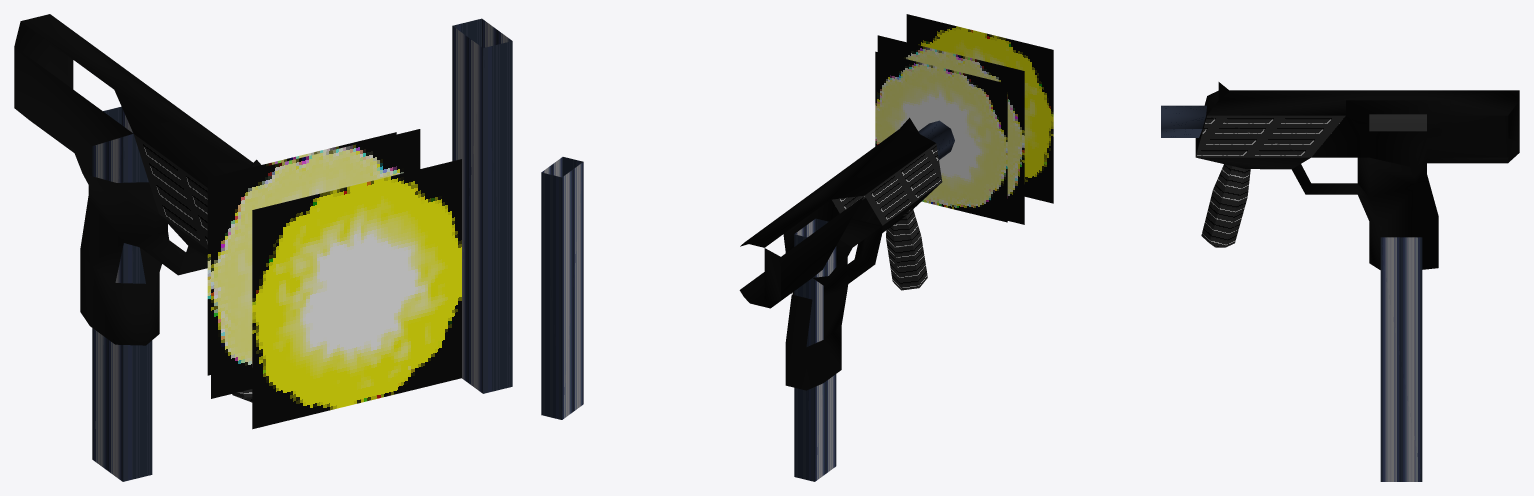
The model's file is Gun000A.obj.
The picture shows the model from 3 angles, left to right: view 1: azimuth 30°, elevation 25°; view 2: azimuth 150°, elevation 25°; view 3: azimuth 270°, elevation 25°; orthographic projection. The views are drawn at different scales.
Visible parts, largest first — view 1: Room02_primary, Room03_primary, Room0D_primary, Room0B_primary; view 2: Room02_primary, Room03_primary, Room0D_primary, Room0B_primary; view 3: Room03_primary, Room0D_primary, Room07_primary.
Part boxes in pixels (bbox=[...]): Room02_primary: bbox=[207, 129, 461, 429]; Room03_primary: bbox=[14, 14, 256, 402]; Room0D_primary: bbox=[452, 18, 512, 393]; Room0B_primary: bbox=[92, 106, 152, 481]; Room02_primary: bbox=[875, 14, 1053, 224]; Room03_primary: bbox=[739, 117, 954, 390]; Room0D_primary: bbox=[541, 157, 583, 419]; Room0B_primary: bbox=[794, 218, 836, 481]; Room03_primary: bbox=[1161, 82, 1519, 269]; Room0D_primary: bbox=[1380, 237, 1422, 481]; Room07_primary: bbox=[1369, 114, 1426, 131].
Bounding box in the file's own units: 325 × 294 × 378.
110 materials, 110 textured.
